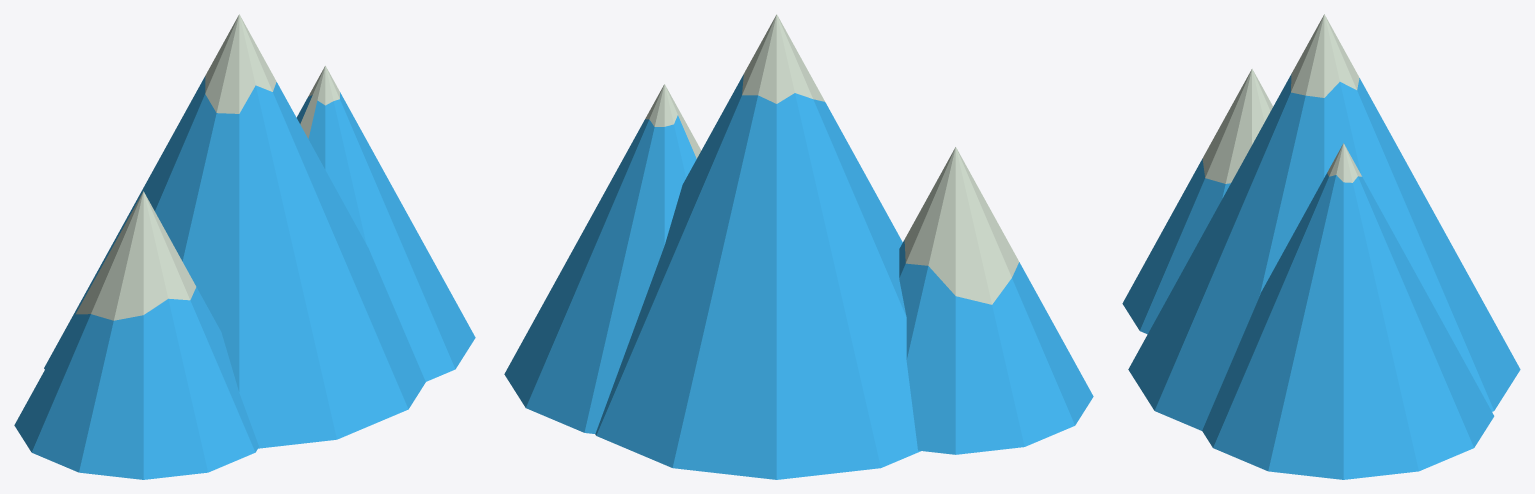
Rendered from Montaña.fbx.
3 renders of one model, left to right at view 1: azimuth 30°, elevation 25°; view 2: azimuth 150°, elevation 25°; view 3: azimuth 270°, elevation 25°, orthographic. The views are drawn at different scales.
Visible parts, largest first — view 1: Montaña; view 2: Montaña; view 3: Montaña.
Boxes of the visible parts, left/top/right/bottom form: Montaña: left=14, top=14, right=475, bottom=479; Montaña: left=504, top=14, right=1093, bottom=479; Montaña: left=1122, top=14, right=1520, bottom=479.
Bounding box in the file's own units: 23599 × 17014 × 17269.
